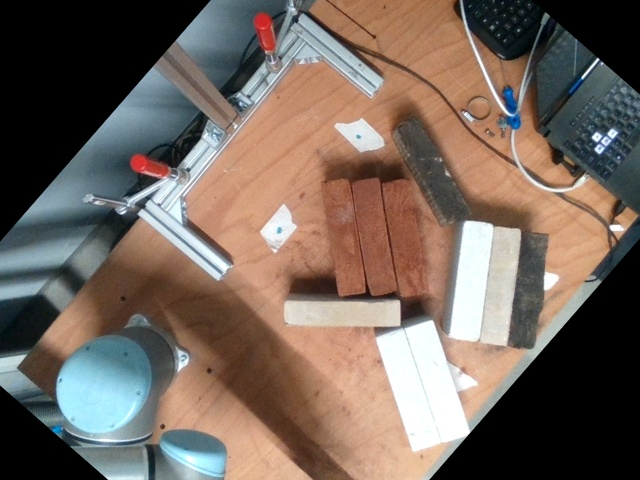brick-side: (402, 116, 469, 219), (381, 333, 438, 448), (409, 326, 466, 441), (323, 180, 365, 296), (384, 179, 426, 295), (353, 179, 394, 295), (481, 227, 521, 343), (453, 222, 492, 338), (510, 233, 547, 346), (285, 304, 398, 324)
